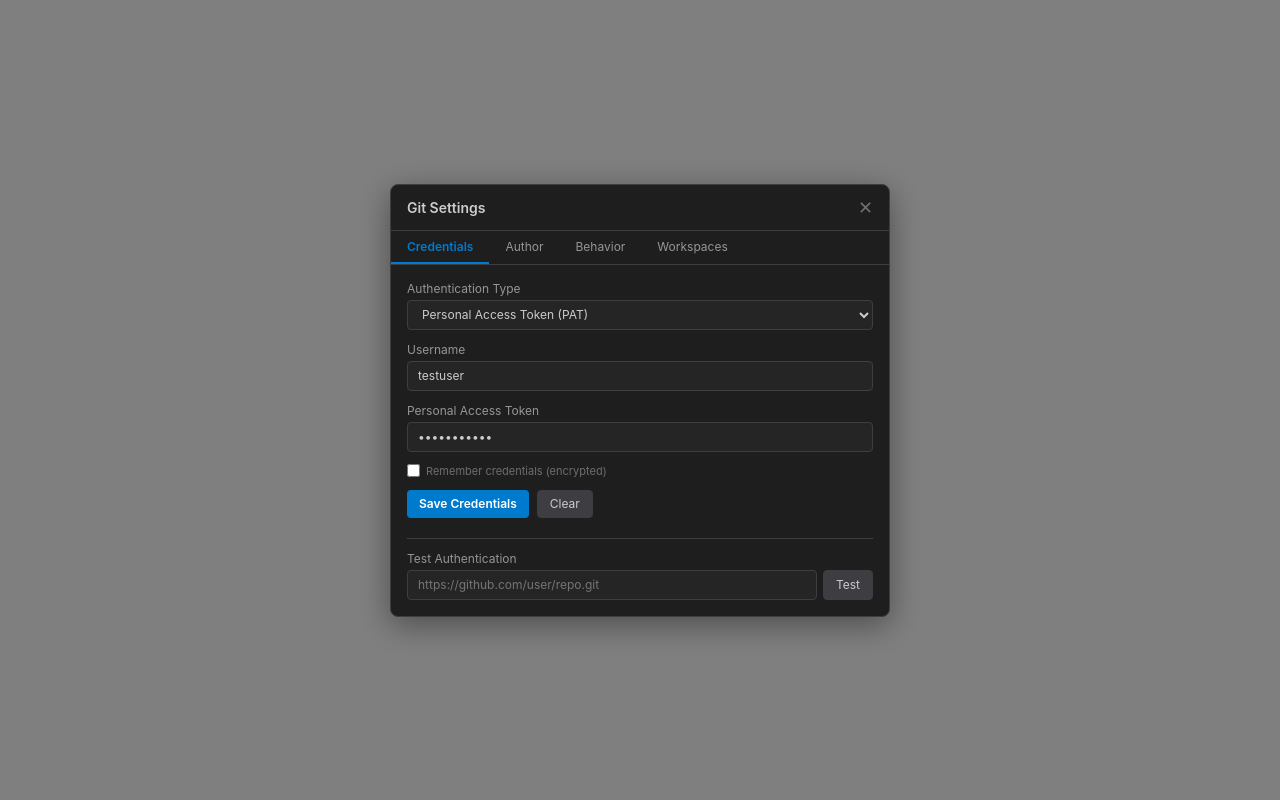
Test: GitSettingsViewPresenter › Behavior tab › shows Auto-fetch checkbox (checked)
The width and height of the screenshot is (1280, 800).
Step 1. Click the text "Behavior" → (600, 246), box [576,238,625,254]
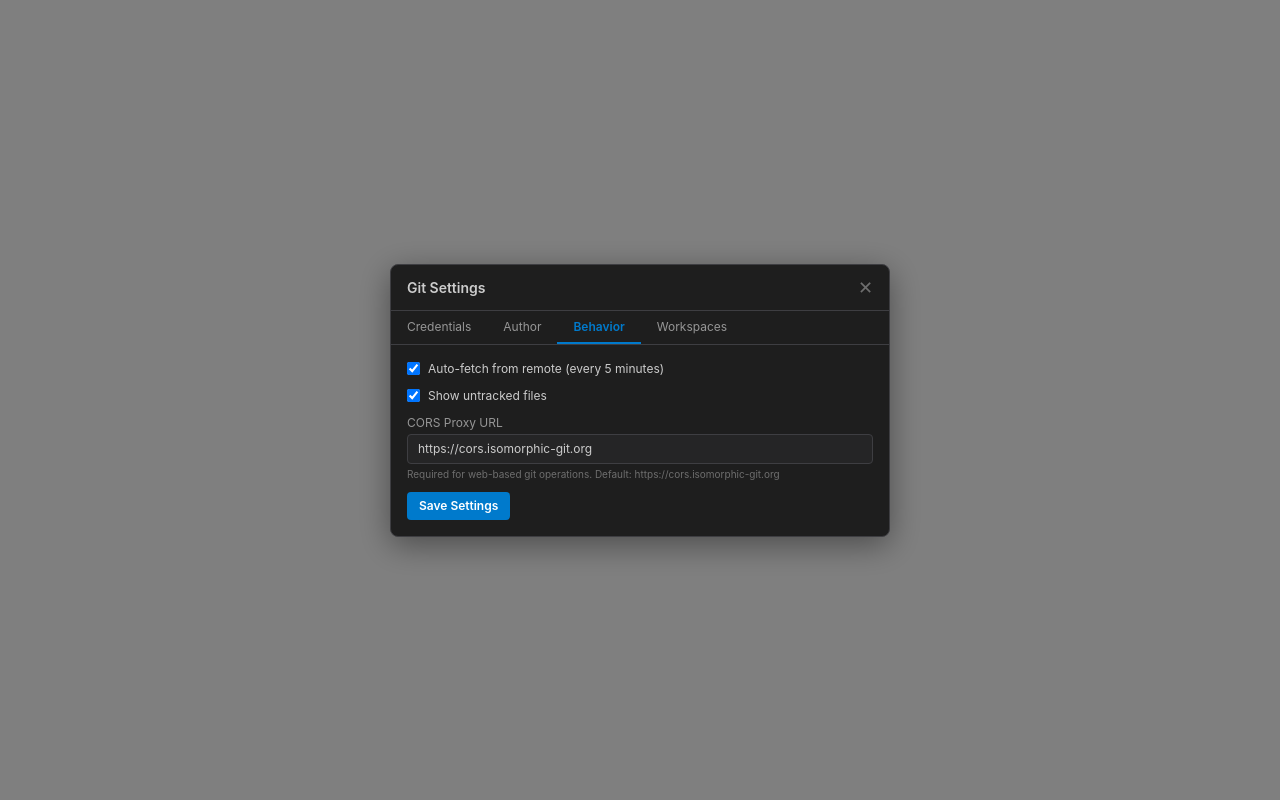
Check: the checkbox with id "auto-fetch" is checked, box [407,362,420,374]
